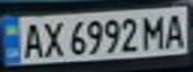2: (118, 14, 142, 53)
6: (66, 17, 87, 56)
9: (84, 17, 106, 56), (103, 16, 124, 54)
A: (18, 19, 48, 60), (160, 10, 190, 48)
M: (139, 11, 169, 51)
X: (39, 18, 66, 58)
